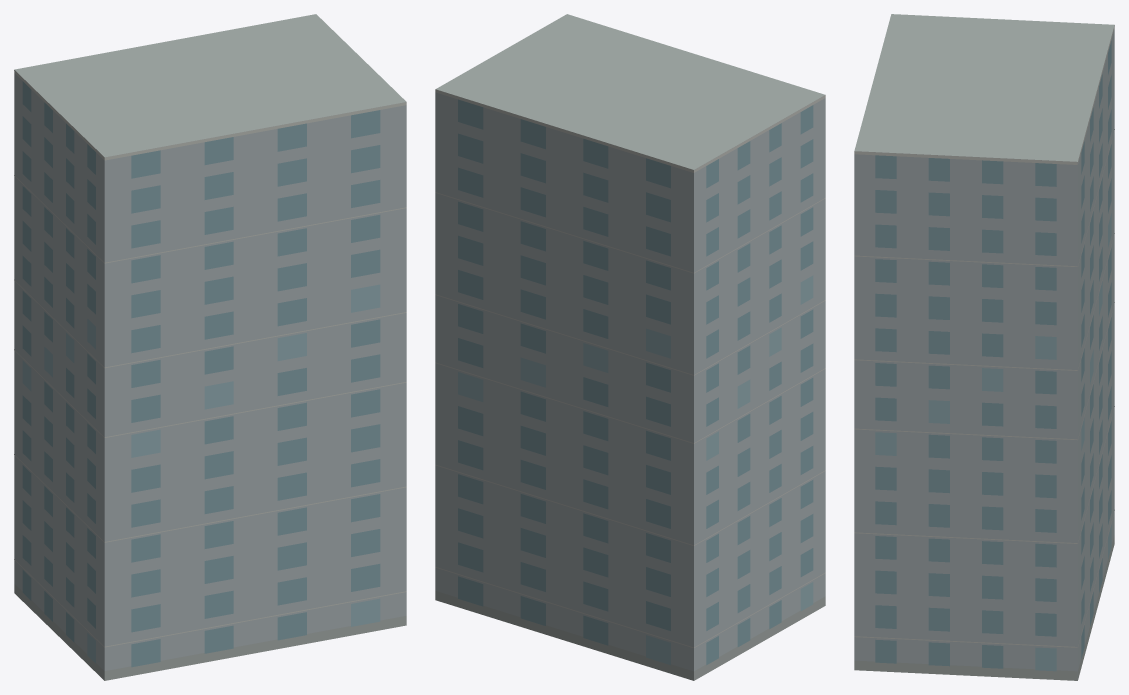
Rendered from residential-fe20dc9b-621c-457a-9a84-1fba1773dc90.glb.
3 renders of one model, left to right at view 1: azimuth 30°, elevation 25°; view 2: azimuth 150°, elevation 25°; view 3: azimuth 270°, elevation 25°, orthographic. The views are drawn at different scales.
Visible parts, largest first — view 1: residential-fe20dc9b-621c-457a-9a84-1fba1773dc90.tmp; view 2: residential-fe20dc9b-621c-457a-9a84-1fba1773dc90.tmp; view 3: residential-fe20dc9b-621c-457a-9a84-1fba1773dc90.tmp.
Boxes of the visible parts, x1=… form: residential-fe20dc9b-621c-457a-9a84-1fba1773dc90.tmp: x1=14, y1=14, x2=406, y2=680; residential-fe20dc9b-621c-457a-9a84-1fba1773dc90.tmp: x1=435, y1=14, x2=825, y2=680; residential-fe20dc9b-621c-457a-9a84-1fba1773dc90.tmp: x1=854, y1=14, x2=1114, y2=680.
Size of the model in its own units: 24.46 by 40 by 18.21.
